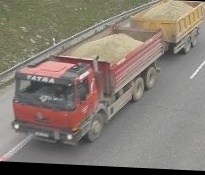truck: (9, 0, 205, 152)
